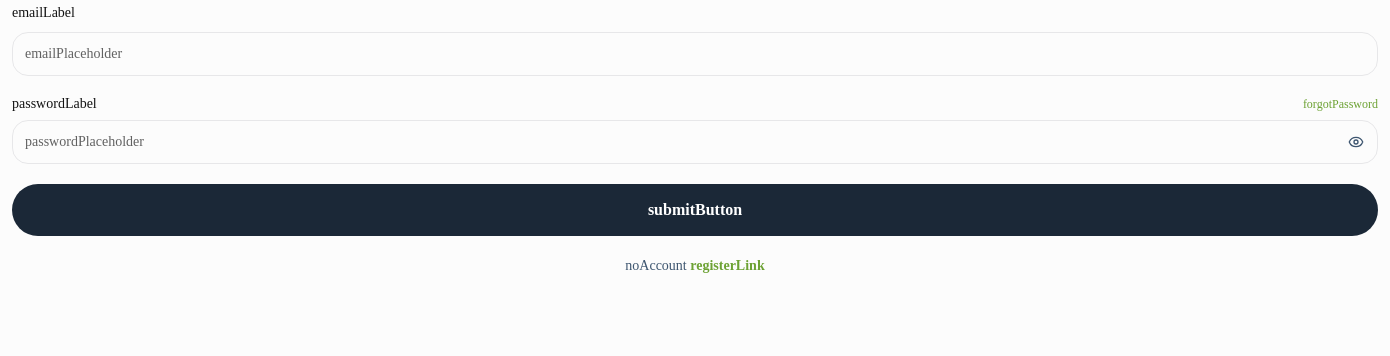
LoginForm › displays error message when signIn returns error
Type "bad@example.com" into the field labelled "emailLabel" at (695, 54), box [12,32,1378,76]
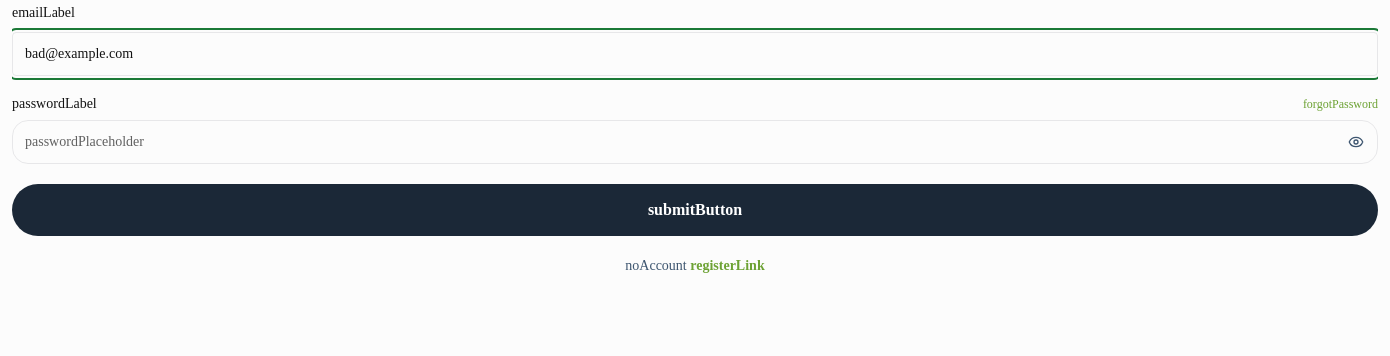
Type "wrongpass" into the password field labelled "passwordLabel" at (695, 142), box [12,120,1378,164]
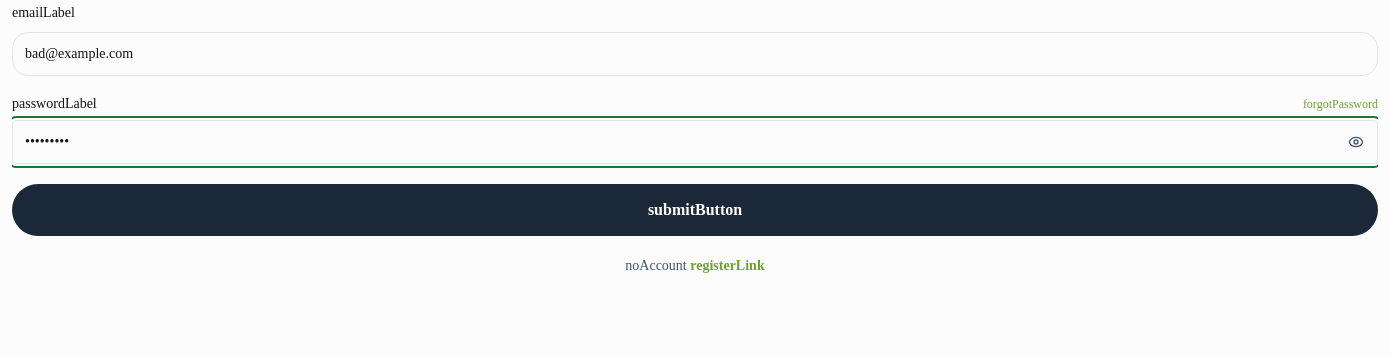
Click the button "submitButton" at (695, 210), box [12,184,1378,236]
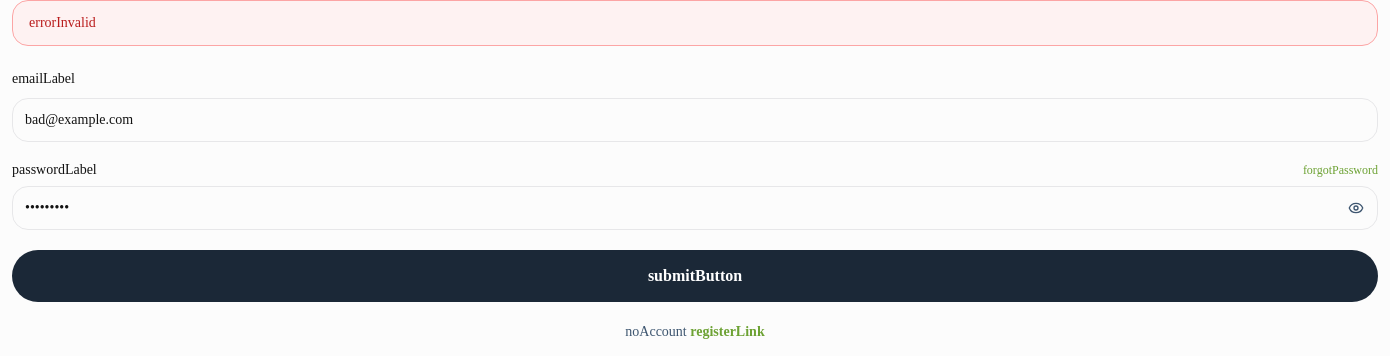
Now the text "errorInvalid" is shown, box [12,0,1378,46]
